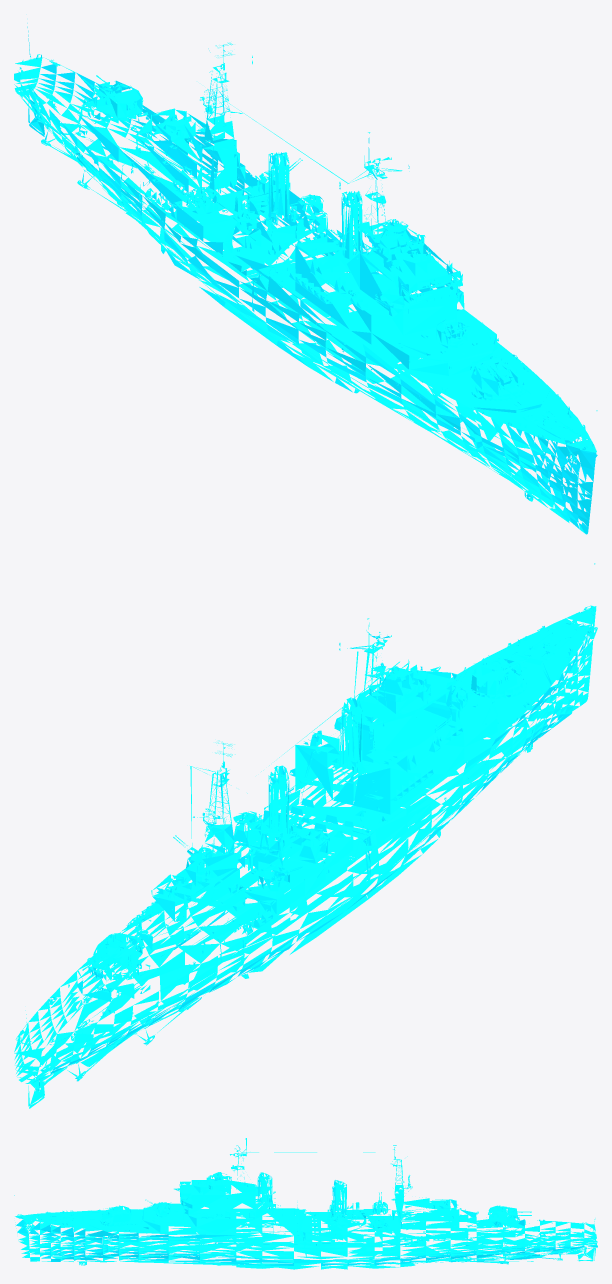
The model's file is PBSC718.glb.
The picture shows the model from 3 angles, top to bottom: view 1: azimuth 30°, elevation 25°; view 2: azimuth 150°, elevation 25°; view 3: azimuth 270°, elevation 25°; orthographic projection. The views are drawn at different scales.
Parts seen in each view (by area): view 1: hull, turret; view 2: hull, turret; view 3: hull, turret.
Boxes of the visible parts, x1,y1,x2,y2 form: hull: (14,23,597,534); turret: (82,42,531,397); hull: (14,563,597,1108); turret: (82,652,531,973); hull: (14,1138,597,1269); turret: (88,1145,531,1232).
Bounding box in the file's own units: 1.45 × 2.73 × 11.28.
